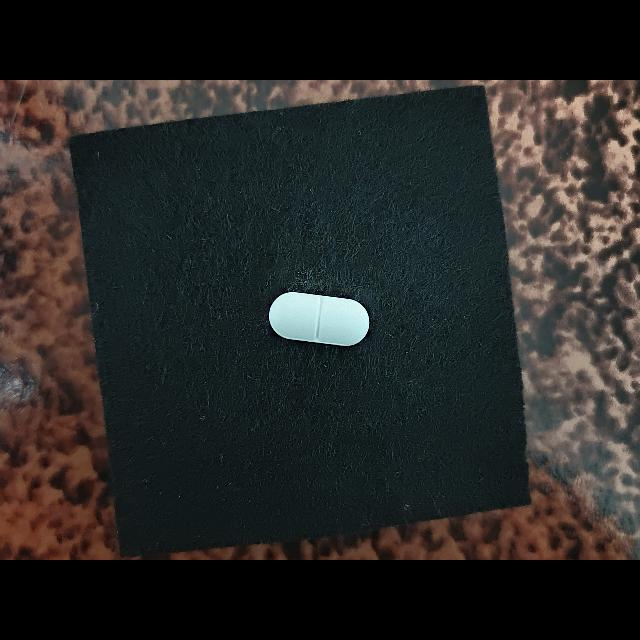Intact Pill: (269, 292, 370, 346)
